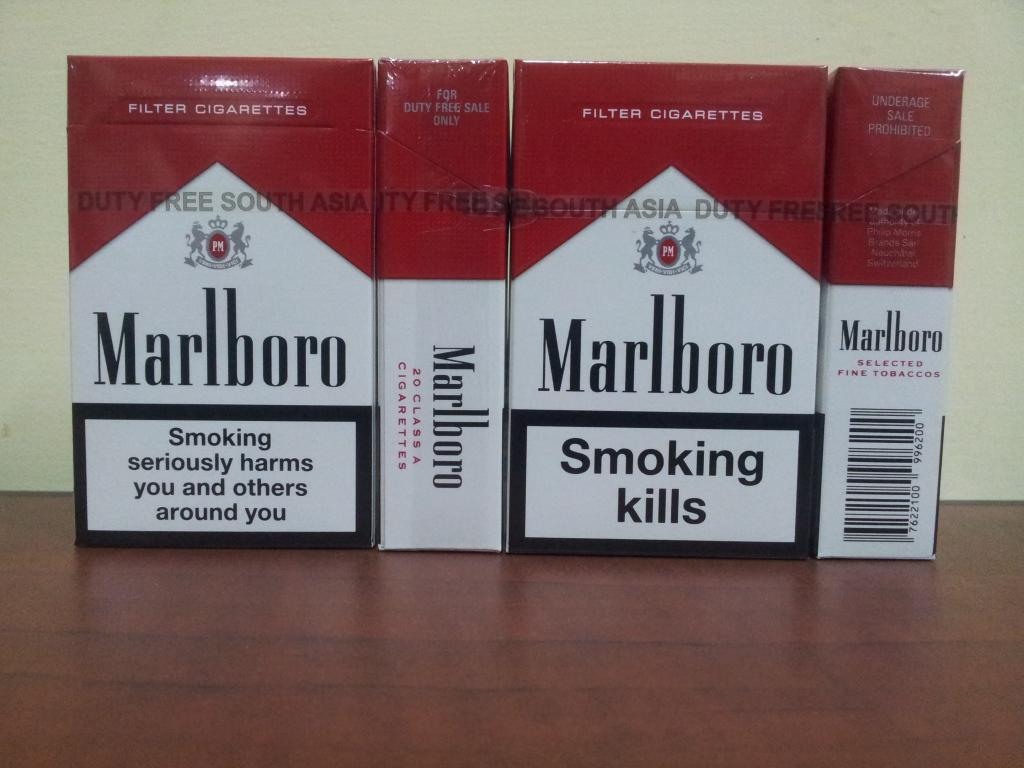marlboro_red: (515, 61, 817, 554), (67, 59, 369, 549)
